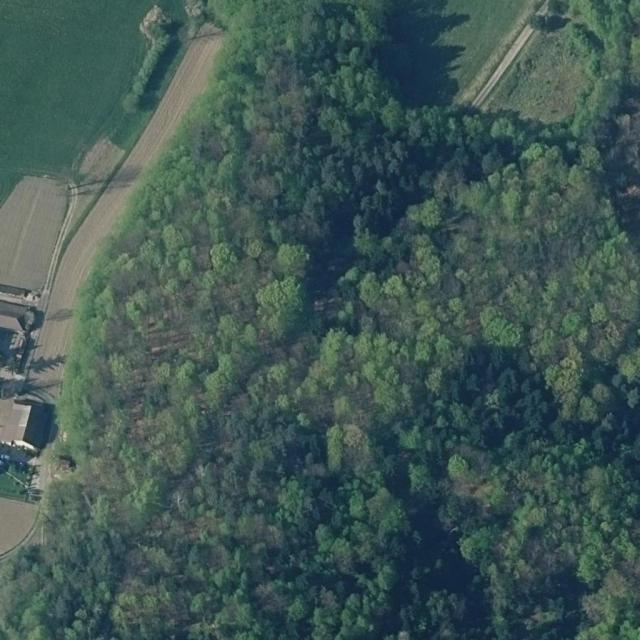agricultural_land: (8, 13, 232, 390), (53, 130, 127, 221), (0, 498, 37, 554)
building: (0, 397, 54, 453), (0, 284, 38, 356)
greenland: (480, 11, 614, 154), (120, 2, 177, 119)
unmetalled_road: (469, 23, 536, 109), (38, 184, 81, 308)
